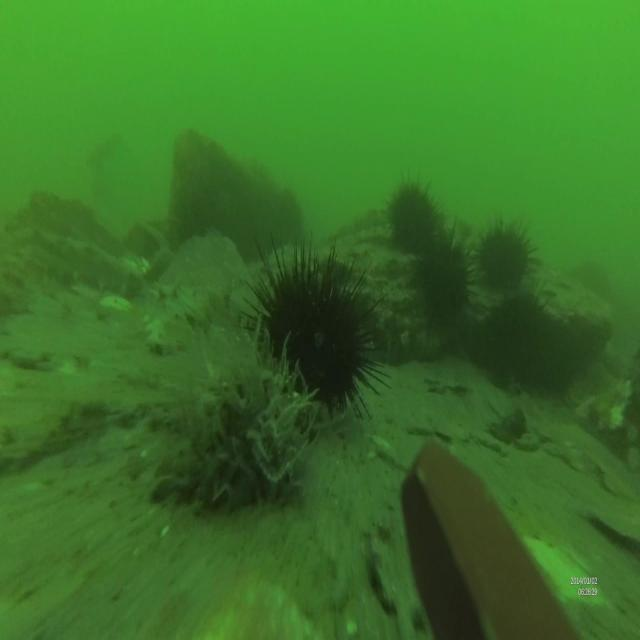echinus: (249, 234, 375, 428), (411, 227, 474, 334), (469, 226, 537, 298), (388, 180, 447, 252)
